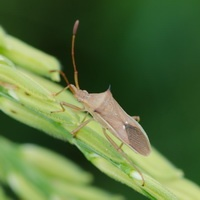insect: (58, 20, 150, 185)
